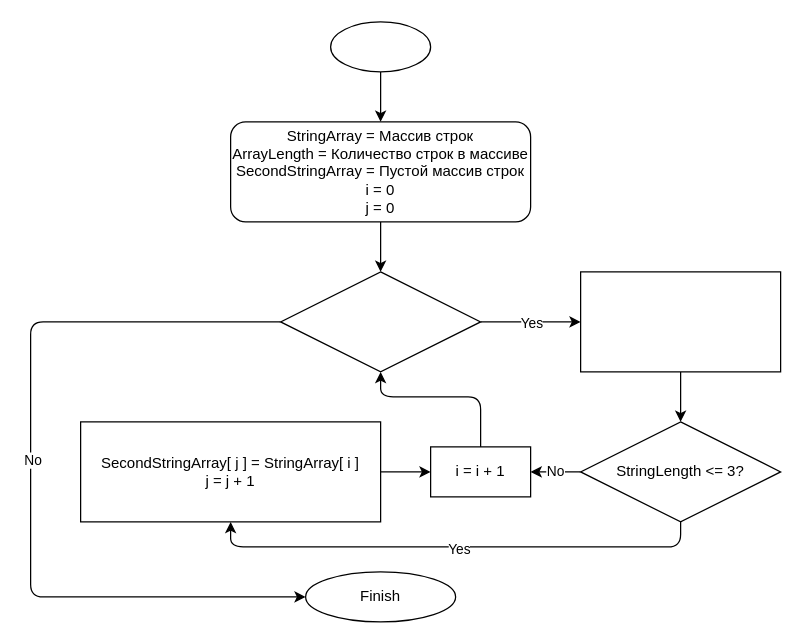
This 803x644 diagram has some shape labels left out. The shapes that lost their labels are listed below. From the top down, each one's centre as x and y in pixels, then its label:
the point at 380,46: Start
the point at 380,321: ArrayLength < i?
the point at 680,321: StringLength = Количество элементов в строке StringArray[ i ]
